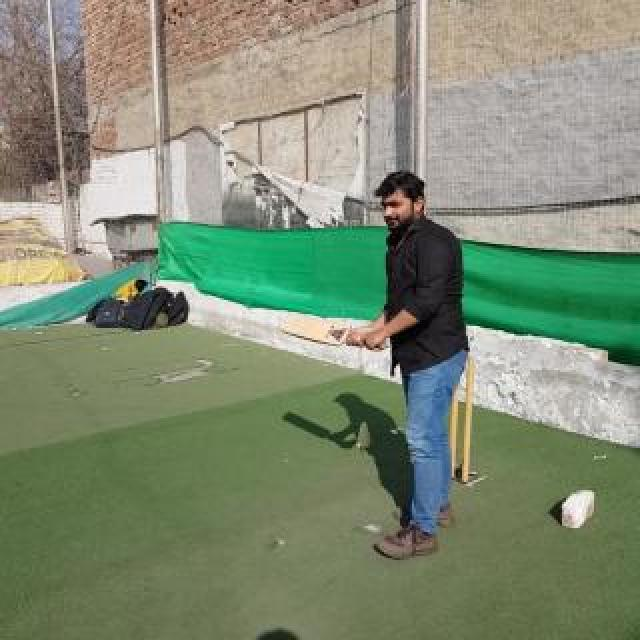bat: (282, 316, 388, 348)
